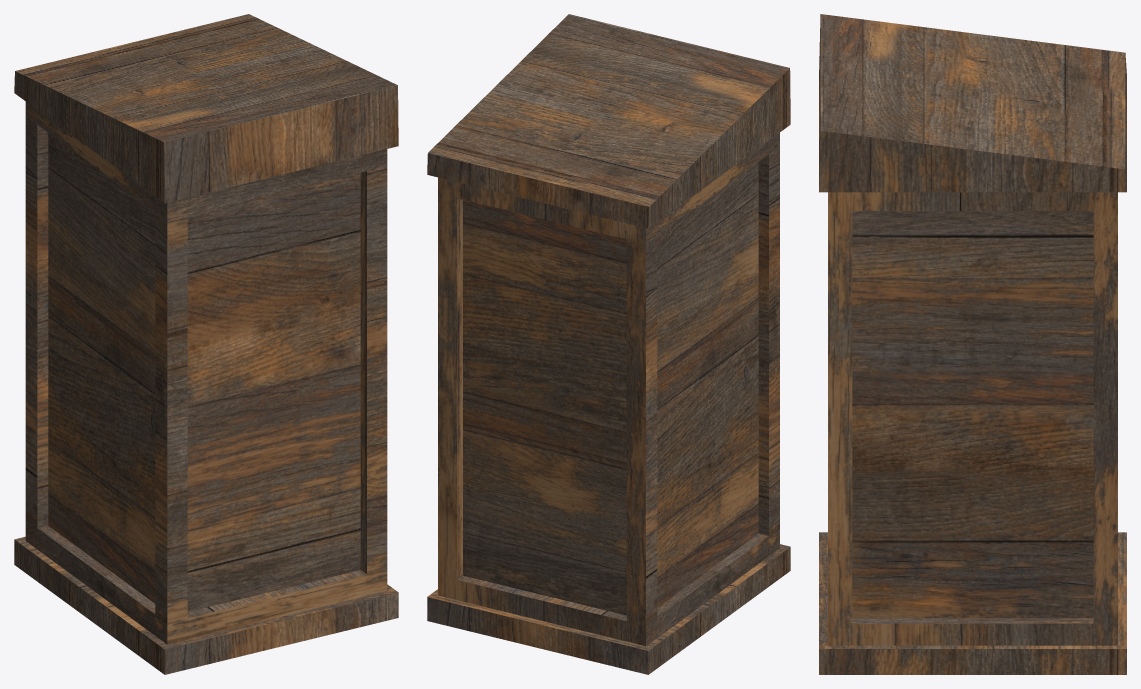
The model's file is outhouse obstacle.fbx.
3 renders of one model, left to right at view 1: azimuth 30°, elevation 25°; view 2: azimuth 150°, elevation 25°; view 3: azimuth 270°, elevation 25°, orthographic. The views are drawn at different scales.
Visible parts, largest first — view 1: Box001; view 2: Box001; view 3: Box001.
Part boxes in pixels (left/top/right/bottom): Box001: left=14, top=14, right=398, bottom=674; Box001: left=427, top=14, right=790, bottom=674; Box001: left=819, top=14, right=1126, bottom=674.
Bounding box in the file's own units: 26.95 × 58.58 × 30.04.
1 material, 1 textured.
